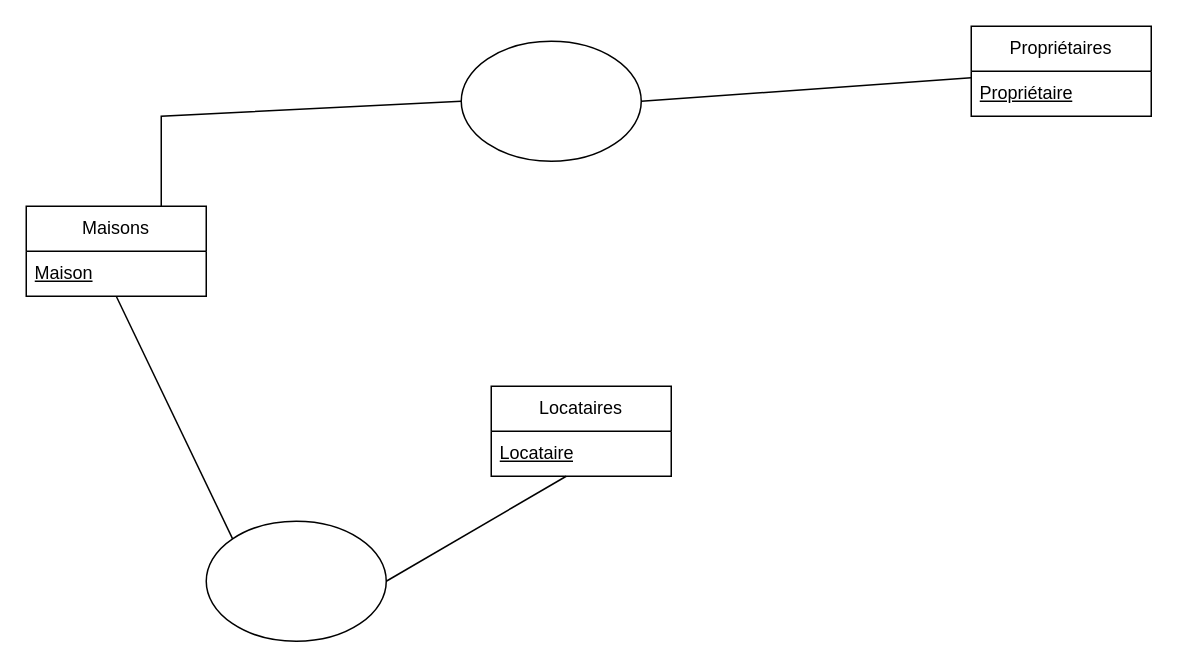
Image size: 1178x668. Some labels were removed from this diagram. The centre of each missing label's shape, as x and y in pixels:
"Appartient" goes at pixel 550 100.
"Loue" goes at pixel 295 580.
